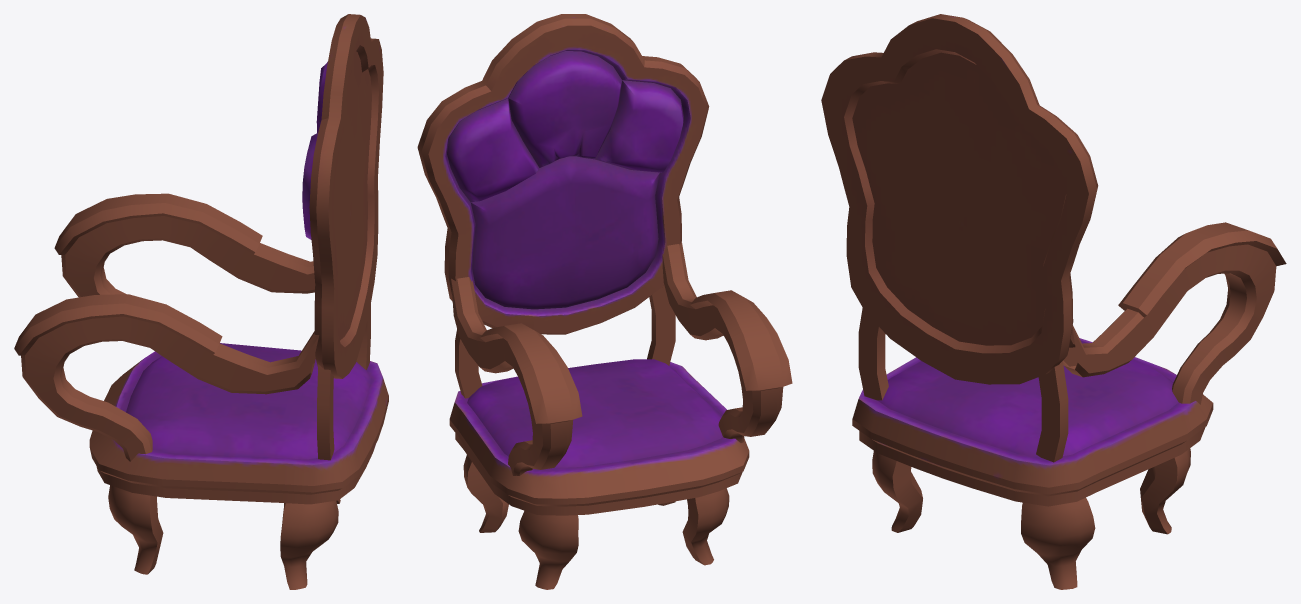
File: POSSESSED_Chair.fbx
3 renders of one model, left to right at view 1: azimuth 30°, elevation 25°; view 2: azimuth 150°, elevation 25°; view 3: azimuth 270°, elevation 25°, orthographic. The views are drawn at different scales.
Visible parts, largest first — view 1: Chair, chairBack, armRest1, armRest, chairLeg3, chairLeg2, chairBackSet1; view 2: chairBack, Chair, armRest, armRest1, chairLeg, chairLeg2, chairBackSet1, chairLeg1, chairBackSet; view 3: chairBack, Chair, armRest, chairLeg1, chairBackSet, chairLeg3, chairLeg, chairBackSet1.
Boxes of the visible parts, bbox=[...] form: Chair: bbox=[89, 343, 388, 504]; chairBack: bbox=[302, 14, 383, 378]; armRest1: bbox=[14, 294, 319, 461]; armRest: bbox=[54, 193, 315, 297]; chairLeg3: bbox=[280, 501, 338, 589]; chairLeg2: bbox=[108, 485, 163, 574]; chairBackSet1: bbox=[317, 364, 334, 460]; chairBack: bbox=[417, 14, 709, 334]; Chair: bbox=[449, 359, 749, 515]; armRest: bbox=[451, 277, 582, 475]; armRest1: bbox=[662, 241, 792, 442]; chairLeg: bbox=[518, 510, 578, 589]; chairLeg2: bbox=[682, 488, 729, 565]; chairBackSet1: bbox=[647, 285, 675, 365]; chairLeg1: bbox=[463, 455, 508, 532]; chairBackSet: bbox=[455, 329, 482, 398]; chairBack: bbox=[821, 14, 1098, 384]; Chair: bbox=[852, 338, 1213, 506]; armRest: bbox=[1063, 222, 1286, 404]; chairLeg1: bbox=[1021, 497, 1095, 589]; chairBackSet: bbox=[1036, 361, 1068, 462]; chairLeg3: bbox=[872, 451, 922, 532]; chairLeg: bbox=[1140, 448, 1190, 534]; chairBackSet1: bbox=[858, 308, 888, 400].
Bounding box in the file's own units: 6.29 × 8.18 × 6.27.
